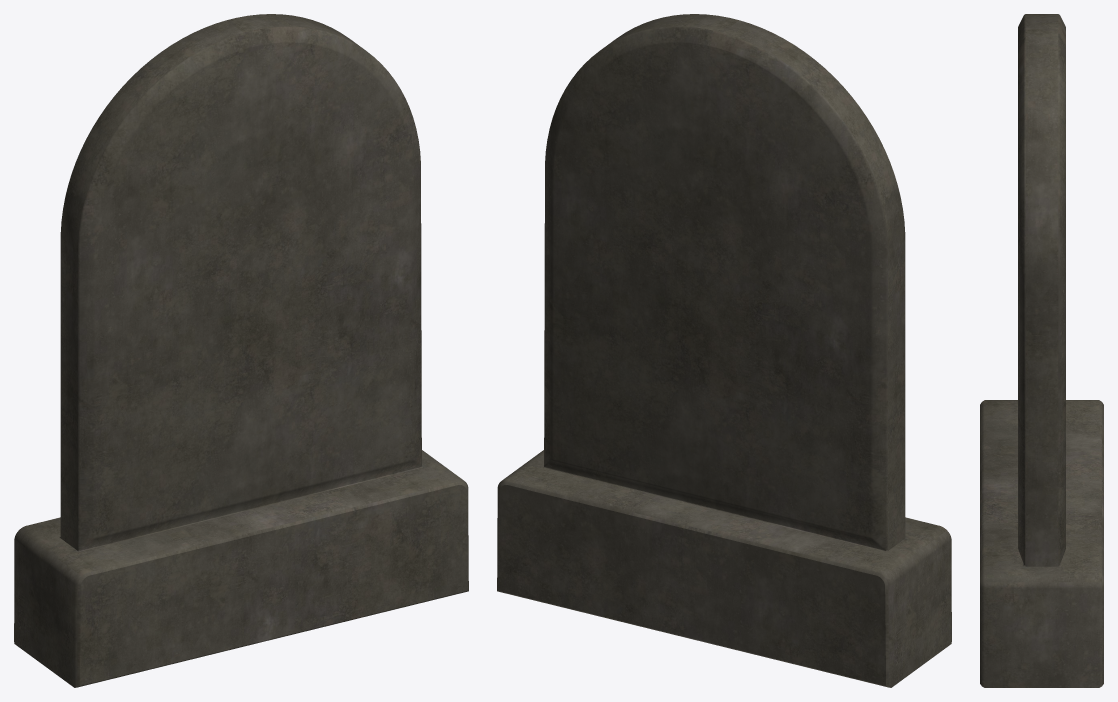
3 views of the same model, side by side, from view 1: azimuth 30°, elevation 25°; view 2: azimuth 150°, elevation 25°; view 3: azimuth 270°, elevation 25° (orthographic). The views are drawn at different scales.
Parts seen in each view (by area): view 1: Tombstone; view 2: Tombstone; view 3: Tombstone.
Boxes of the visible parts, x1=… form: Tombstone: x1=14, y1=14, x2=468, y2=687; Tombstone: x1=497, y1=14, x2=951, y2=687; Tombstone: x1=980, y1=14, x2=1103, y2=687.
Size of the model in its own units: 19.24 by 27.65 by 5.49.
